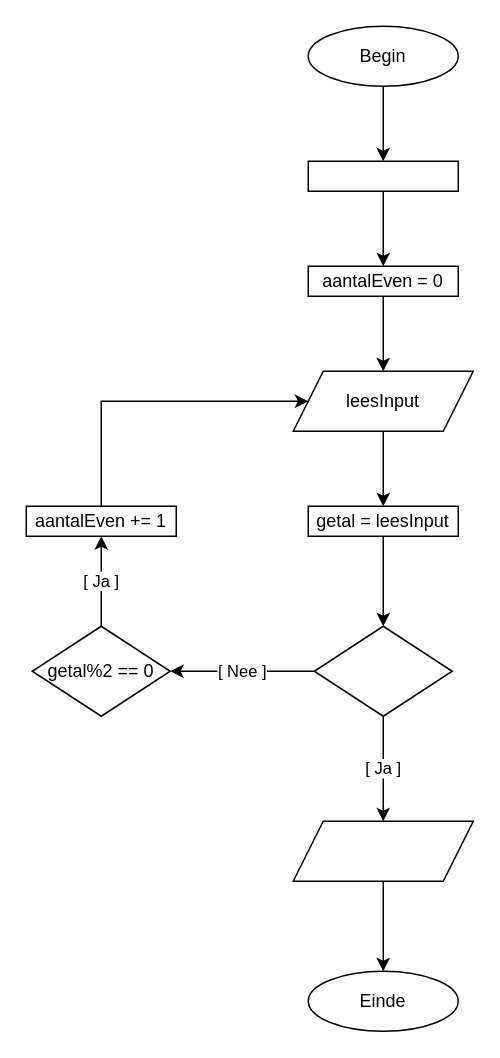
The diagram is 500 pixels wide and 1058 high, and some of its shapes have lost their labels. Here are the shapes that lost their labels. From the top down, the centre of each, then its label:
At point 382,175: "getal = 0".
At point 382,670: "getal > 100?".
At point 382,850: "Toon aantalEven".
